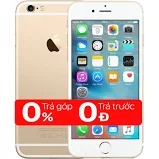iphone: (65, 1, 143, 159)
iphone6: (66, 1, 143, 159)
